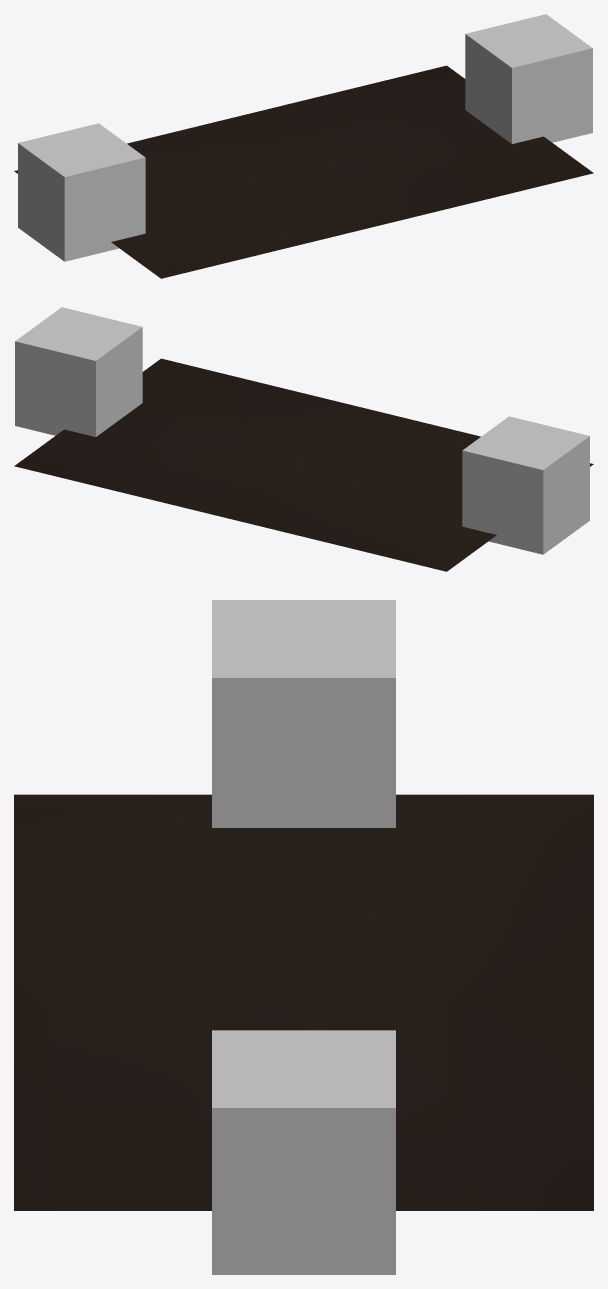
File: cf_tr43_col.obj
3 views of the same model, one above another, from view 1: azimuth 30°, elevation 25°; view 2: azimuth 150°, elevation 25°; view 3: azimuth 270°, elevation 25° (orthographic). The views are drawn at different scales.
Parts seen in each view (by area): view 1: Plane.001, Cube.001_Cube.002, Cube_Cube.001; view 2: Plane.001, Cube.001_Cube.002, Cube_Cube.001; view 3: Plane.001, Cube_Cube.001, Cube.001_Cube.002.
Part boxes in pixels (x1=…): Plane.001: x1=14, y1=65, x2=593, y2=278; Cube.001_Cube.002: x1=18, y1=123, x2=145, y2=261; Cube_Cube.001: x1=465, y1=14, x2=592, y2=143; Plane.001: x1=14, y1=358, x2=593, y2=571; Cube.001_Cube.002: x1=462, y1=416, x2=589, y2=554; Cube_Cube.001: x1=15, y1=307, x2=142, y2=436; Plane.001: x1=14, y1=794, x2=593, y2=1210; Cube_Cube.001: x1=212, y1=1030, x2=395, y2=1274; Cube.001_Cube.002: x1=212, y1=600, x2=395, y2=827.
Bounding box in the file's own units: 6.53 × 1 × 3.15.
